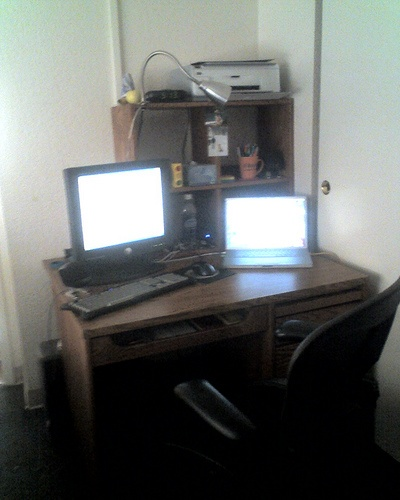bottle: (176, 192, 374, 443)
cup: (239, 155, 400, 336)
